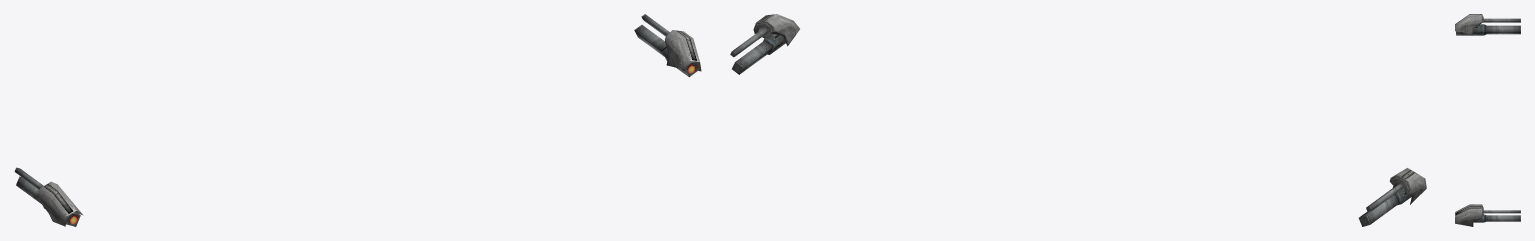
Rendered from hutt_fighter_light_weapon_s06_l1.fbx.
The picture shows the model from 3 angles, left to right: view 1: azimuth 30°, elevation 25°; view 2: azimuth 150°, elevation 25°; view 3: azimuth 270°, elevation 25°; orthographic projection. The views are drawn at different scales.
Parts seen in each view (by area): view 1: mesh_node; view 2: mesh_node; view 3: mesh_node.
Part boxes in pixels (box(x1,y1,x2,y2)): mesh_node: box(14, 14, 701, 226); mesh_node: box(730, 14, 1426, 226); mesh_node: box(1455, 14, 1520, 226).
Bounding box in the file's own units: 3.46 × 0.1717 × 0.4872.
